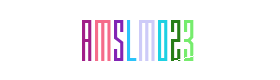0: (110, 0, 190, 80)
2: (135, 0, 215, 80)
3: (149, 0, 229, 80)
A: (61, 0, 141, 80)
L: (100, 0, 180, 80)
M: (61, 0, 141, 80), (106, 0, 186, 80)
S: (76, 0, 156, 80)
